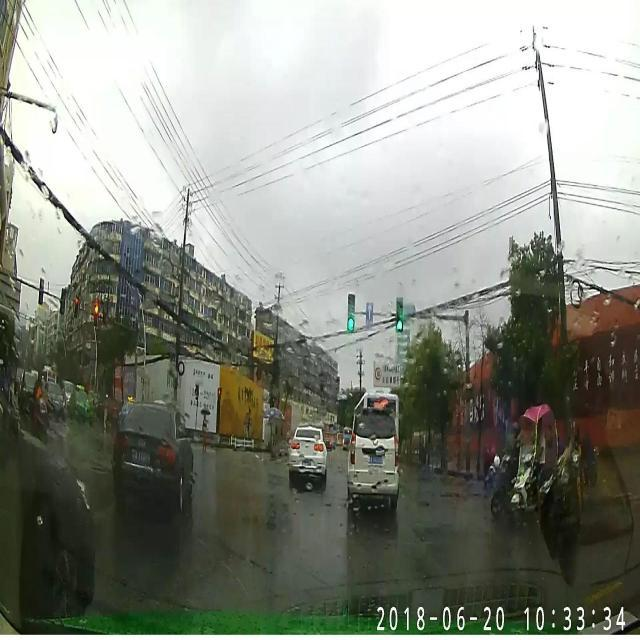car: (0, 409, 97, 616), (112, 398, 195, 516), (346, 410, 402, 512), (288, 425, 326, 488)
